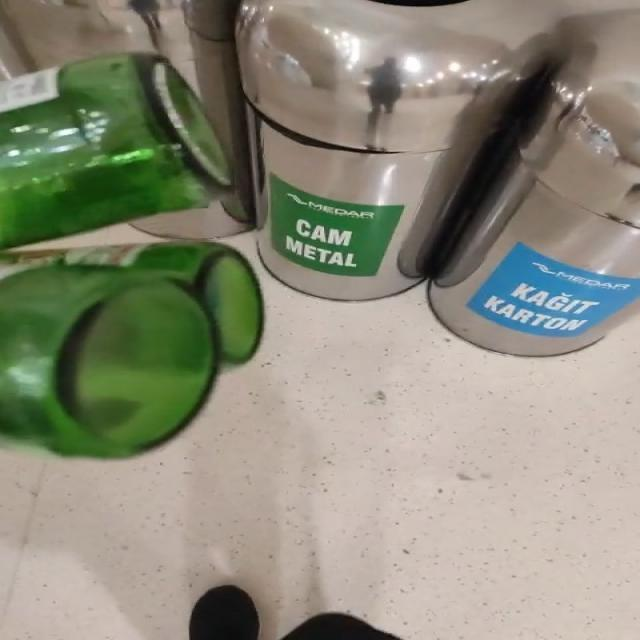Glass: (3, 241, 263, 457), (0, 55, 231, 248)
